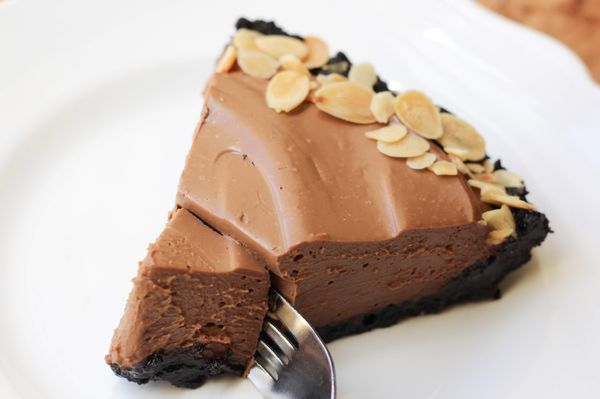burger: (185, 197, 337, 397)
